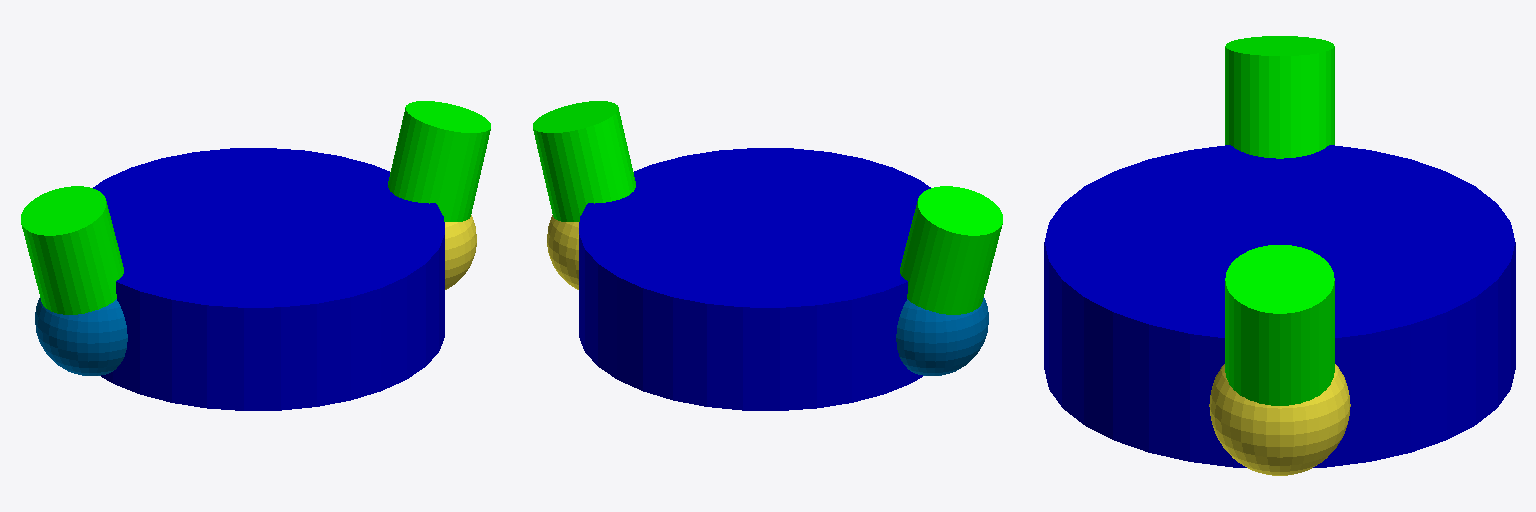
robot.urdf — gripper_2f_1j:
<?xml version='1.0' encoding='UTF-8'?>
<robot name="gripper_2f_1j">
  <link name="palm">
    <inertial>
      <origin xyz="0.0 0.0 0.0" rpy="0.0 -0.0 0.0"/>
      <mass value="1.0"/>
      <inertia ixx="1.0" ixy="0.0" ixz="0.0" iyy="1.0" iyz="0.0" izz="1.0"/>
    </inertial>
    <visual>
      <geometry>
        <cylinder radius="0.05" length="0.03"/>
      </geometry>
      <material name="blue"/>
      <origin xyz="0.0 0.0 0.0" rpy="0.0 -0.0 0.0"/>
    </visual>
    <collision>
      <geometry>
        <cylinder radius="0.05" length="0.03"/>
      </geometry>
      <origin xyz="0.0 0.0 0.0" rpy="0.0 0.0 0.0"/>
    </collision>
  </link>
  <link name="f11">
    <inertial>
      <origin xyz="0.0 0.0 0.0" rpy="0.0 -0.0 0.0"/>
      <mass value="1.0"/>
      <inertia ixx="1.0" ixy="0.0" ixz="0.0" iyy="1.0" iyz="0.0" izz="1.0"/>
    </inertial>
    <visual>
      <geometry>
        <cylinder radius="0.011622988941570234" length="0.034655890843647445"/>
      </geometry>
      <material name="green"/>
      <origin xyz="0.0 0.0 0.017327945421823723" rpy="0.0 -0.0 0.0"/>
    </visual>
    <collision>
      <geometry>
        <cylinder radius="0.011622988941570234" length="0.034655890843647445"/>
      </geometry>
      <origin xyz="0.0 0.0 0.05" rpy="0.0 0.0 0.0"/>
    </collision>
  </link>
  <link name="f21">
    <inertial>
      <origin xyz="0.0 0.0 0.0" rpy="0.0 -0.0 0.0"/>
      <mass value="1.0"/>
      <inertia ixx="1.0" ixy="0.0" ixz="0.0" iyy="1.0" iyz="0.0" izz="1.0"/>
    </inertial>
    <visual>
      <geometry>
        <cylinder radius="0.011622988941570234" length="0.034655890843647445"/>
      </geometry>
      <material name="green"/>
      <origin xyz="0.0 0.0 0.017327945421823723" rpy="0.0 -0.0 0.0"/>
    </visual>
    <collision>
      <geometry>
        <cylinder radius="0.011622988941570234" length="0.034655890843647445"/>
      </geometry>
      <origin xyz="0.0 0.0 0.05" rpy="0.0 0.0 0.0"/>
    </collision>
  </link>
  <link name="f11_base">
    <inertial>
      <origin xyz="0.0 0.0 0.0" rpy="0.0 -0.0 0.0"/>
      <mass value="1.0"/>
      <inertia ixx="1.0" ixy="0.0" ixz="0.0" iyy="1.0" iyz="0.0" izz="1.0"/>
    </inertial>
    <visual>
      <geometry>
        <sphere radius="0.015"/>
      </geometry>
      <origin xyz="0.0 0.0 0.0" rpy="0.0 -0.0 0.0"/>
    </visual>
  </link>
  <link name="f21_base">
    <inertial>
      <origin xyz="0.0 0.0 0.0" rpy="0.0 -0.0 0.0"/>
      <mass value="1.0"/>
      <inertia ixx="1.0" ixy="0.0" ixz="0.0" iyy="1.0" iyz="0.0" izz="1.0"/>
    </inertial>
    <visual>
      <geometry>
        <sphere radius="0.015"/>
      </geometry>
      <origin xyz="0.0 0.0 0.0" rpy="0.0 -0.0 0.0"/>
    </visual>
  </link>
  <joint name="f11_joint" type="revolute">
    <dynamics damping="100.0" friction="1.0"/>
    <limit effort="30.0" velocity="2.0" lower="-0.6" upper="0.25"/>
    <parent link="f11_base"/>
    <child link="f11"/>
    <axis xyz="0. 1. 0."/>
    <origin xyz="0.0 0.0 0.0" rpy="0.0 0.25 0.0"/>
  </joint>
  <joint name="f21_joint" type="revolute">
    <dynamics damping="100.0" friction="1.0"/>
    <limit effort="30.0" velocity="2.0" lower="-0.6" upper="0.25"/>
    <parent link="f21_base"/>
    <child link="f21"/>
    <axis xyz=" 0. -1.  0."/>
    <origin xyz="0.0 0.0 0.0" rpy="0.0 -0.25 0.0"/>
  </joint>
  <joint name="f11_base_joint" type="fixed">
    <parent link="palm"/>
    <child link="f11_base"/>
    <axis xyz="1. 0. 0."/>
    <origin xyz="0.05 0.0 0.0" rpy="0.0 0.0 0.0"/>
  </joint>
  <joint name="f21_base_joint" type="fixed">
    <parent link="palm"/>
    <child link="f21_base"/>
    <axis xyz="1. 0. 0."/>
    <origin xyz="-0.05 -0.0 0.0" rpy="0.0 0.0 0.0"/>
  </joint>
  <material name="blue">
    <color rgba="0.  0.  0.8 1. "/>
  </material>
  <material name="green">
    <color rgba="0. 1. 0. 1."/>
  </material>
</robot>

--- Facts derived from the render (not from the file) ---
3 views of the same robot in one strip: view 1: azimuth 30°, elevation 25°; view 2: azimuth 150°, elevation 25°; view 3: azimuth 270°, elevation 25° (orthographic).
Model gripper_2f_1j with 5 links and 4 joints (2 revolute, 2 fixed), rooted at palm, posed every joint at zero.
Links seen in each view (by area): view 1: palm, f21, f11, f21_base, f11_base; view 2: palm, f21, f11, f21_base, f11_base; view 3: palm, f11, f21, f11_base.
Link boxes in pixels (x1,y1,x2,y2): palm: (93, 148, 444, 410); f21: (21, 186, 123, 314); f11: (388, 101, 490, 221); f21_base: (35, 298, 127, 375); f11_base: (445, 215, 476, 289); palm: (579, 148, 930, 410); f21: (900, 186, 1002, 314); f11: (533, 101, 635, 221); f21_base: (896, 298, 988, 375); f11_base: (547, 215, 578, 289); palm: (1044, 145, 1515, 467); f11: (1225, 245, 1334, 405); f21: (1225, 36, 1334, 158); f11_base: (1209, 364, 1350, 475).
Size in the robot's own frame: 0.1397 by 0.1 by 0.0515 metres.
Geometry: primitives only (box / cylinder / sphere), no mesh files.